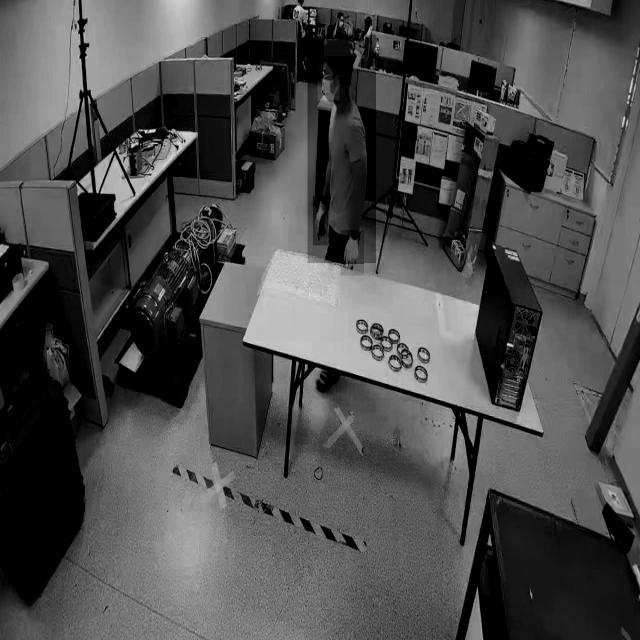face_mask: (317, 63, 339, 101)
hand_glove: (340, 230, 364, 276), (312, 196, 328, 246)
head_nohelmet: (323, 39, 353, 57), (364, 15, 372, 22), (338, 10, 344, 15)
person: (307, 35, 376, 264)
